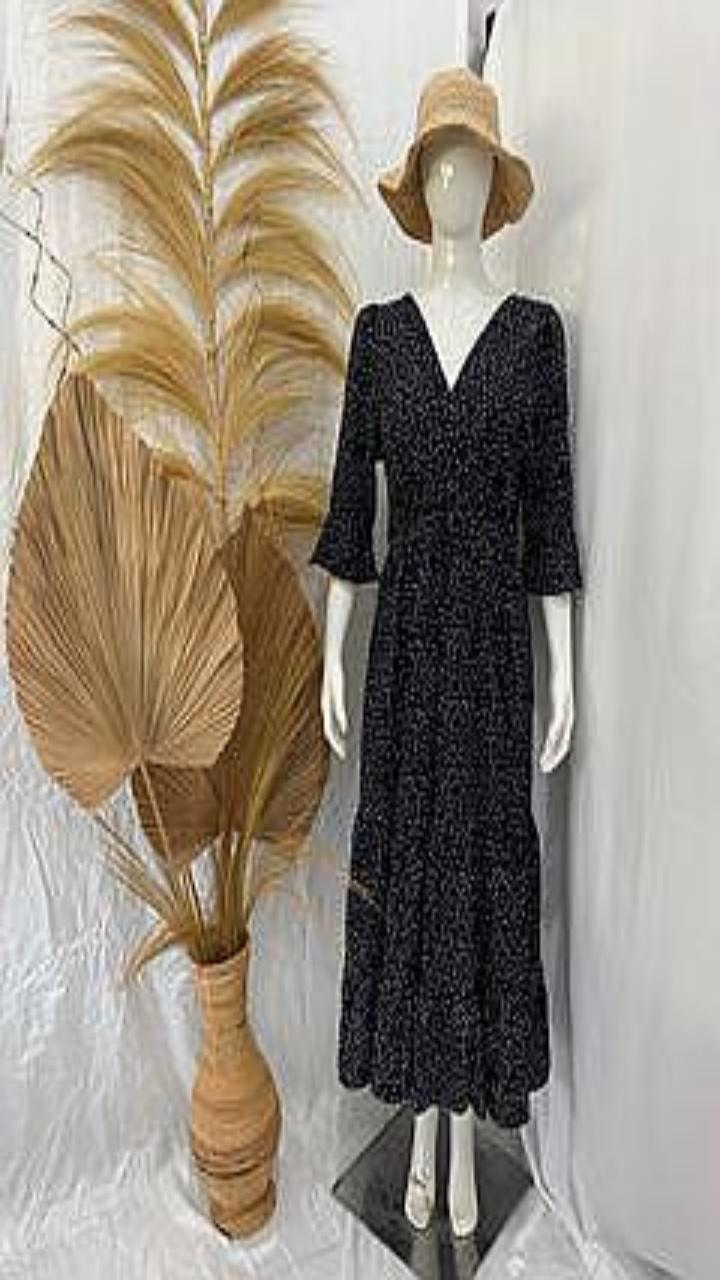Dresses: (310, 293, 581, 1126)
